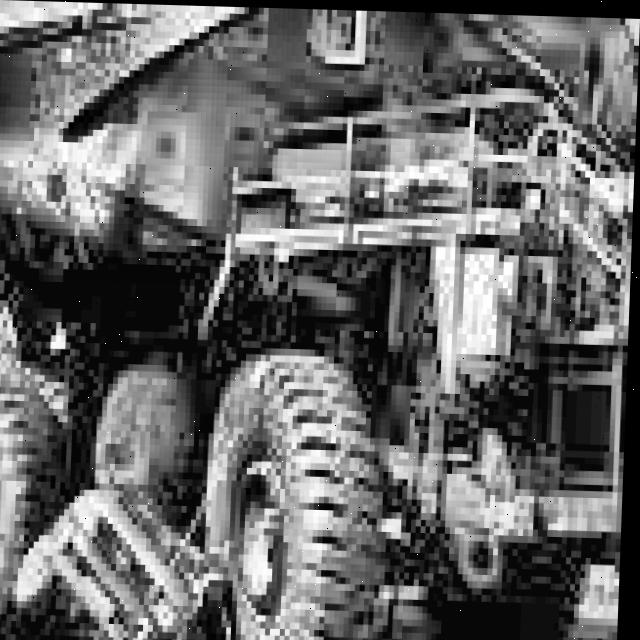dump_truck: (0, 0, 640, 640)
light_vehicle: (15, 467, 244, 640)
